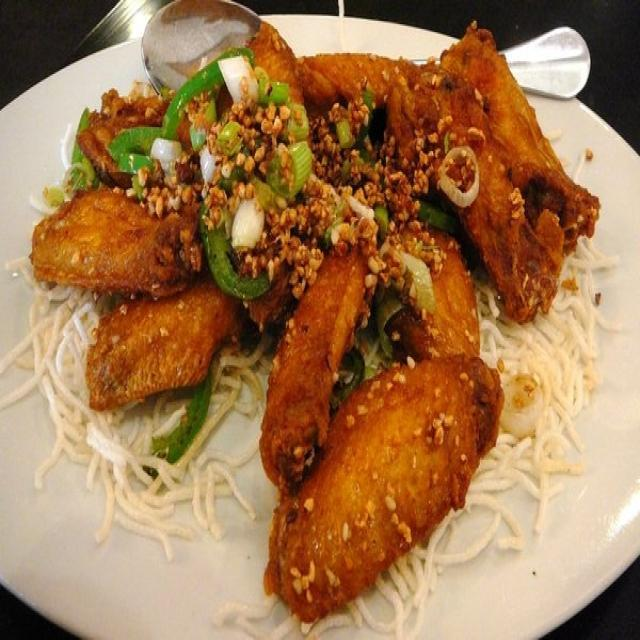Deep fried chicken wing: (41, 45, 573, 581)
